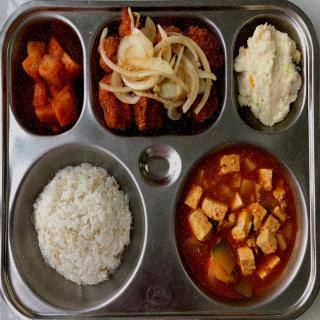Nasi: (32, 164, 135, 287)
